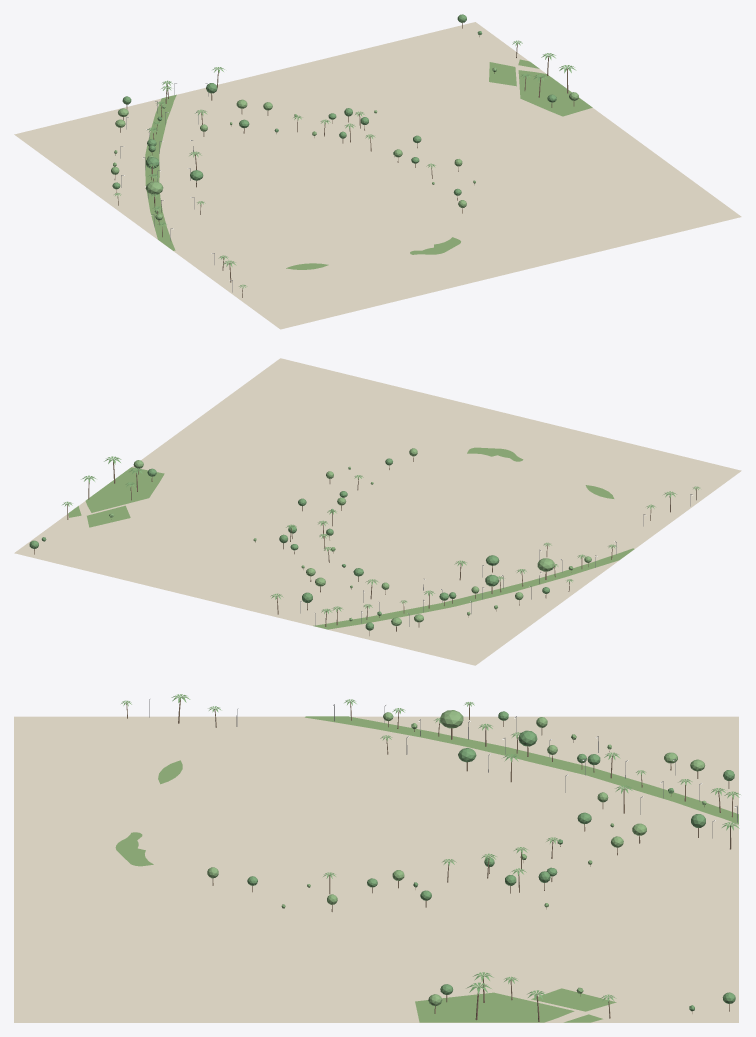
File: nature_-3_1.glb
The picture shows the model from 3 angles, top to bottom: view 1: azimuth 30°, elevation 25°; view 2: azimuth 150°, elevation 25°; view 3: azimuth 270°, elevation 25°; orthographic projection. The views are drawn at different scales.
Parts seen in each view (by area): view 1: ground, grass, foliage_a, foliage_b, palm_leaf, trunk; view 2: ground, grass, foliage_a, foliage_b, palm_leaf, trunk; view 3: ground, grass, foliage_a, foliage_b, palm_leaf, trunk.
Part boxes in pixels (x1,y1,x2,y2): ground: [14, 22, 741, 329]; grass: [145, 59, 592, 269]; foliage_a: [112, 14, 556, 195]; foliage_b: [111, 67, 578, 220]; palm_leaf: [114, 40, 576, 288]; trunk: [114, 23, 574, 297]; ground: [14, 358, 741, 665]; grass: [68, 447, 634, 629]; foliage_a: [29, 458, 549, 630]; foliage_b: [109, 448, 591, 626]; palm_leaf: [62, 456, 700, 613]; trunk: [34, 456, 696, 635]; ground: [14, 716, 738, 1022]; grass: [115, 716, 738, 1022]; foliage_a: [247, 711, 735, 1011]; foliage_b: [207, 710, 706, 1006]; palm_leaf: [121, 694, 740, 1001]; trunk: [126, 699, 733, 1021].
Bounding box in the file's own units: 254 × 13.24 × 251.
